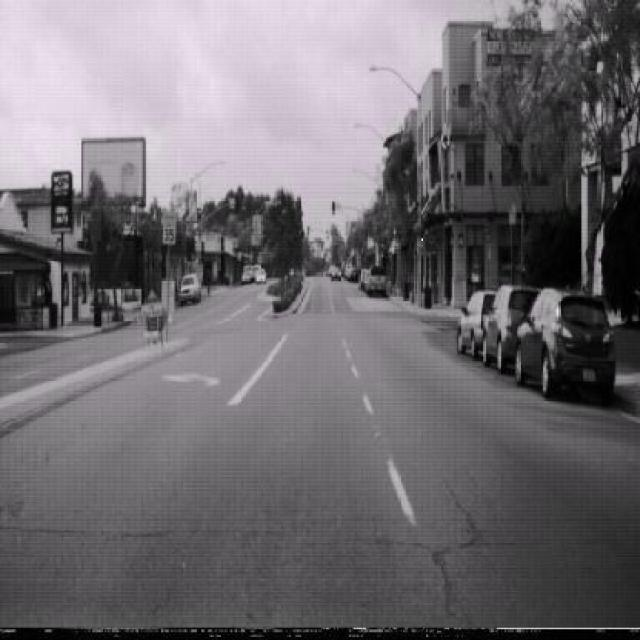speedLimit35: (161, 208, 177, 245), (416, 236, 424, 256)
